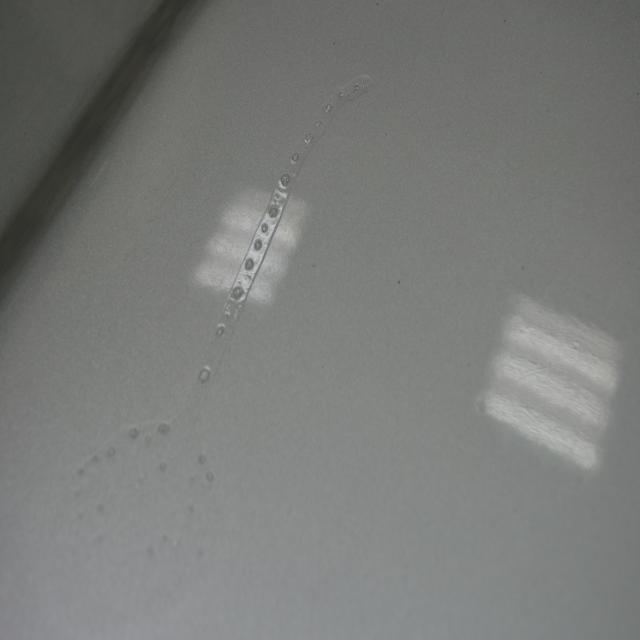runs: (74, 74, 372, 616)
